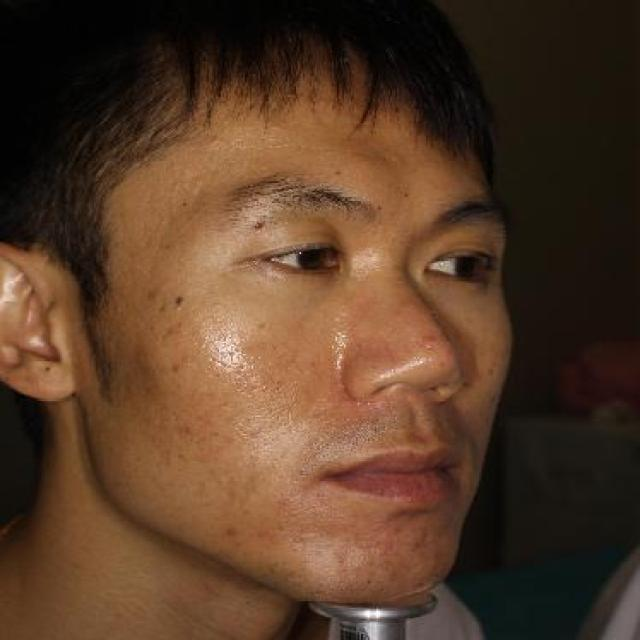Acne: (124, 334, 182, 403), (214, 517, 247, 546)
